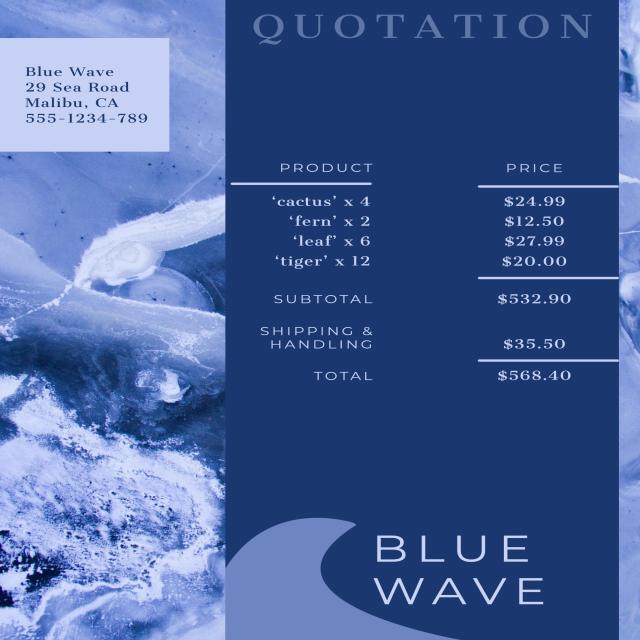ROI: (255, 153, 598, 277), (250, 322, 590, 400), (372, 523, 547, 608), (255, 9, 589, 48), (15, 56, 158, 135), (266, 289, 590, 309)
